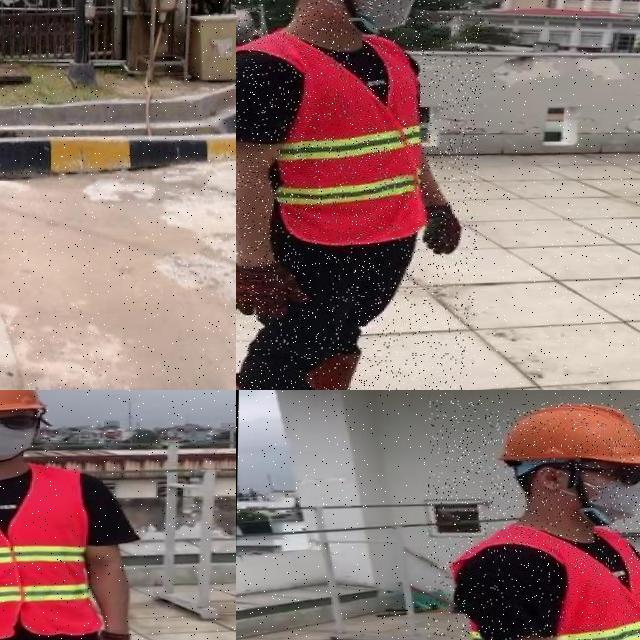boots: (306, 350, 394, 390)
helmet: (478, 402, 640, 472), (0, 390, 44, 417)
vest: (267, 32, 426, 244), (440, 521, 640, 640), (0, 463, 103, 639)
